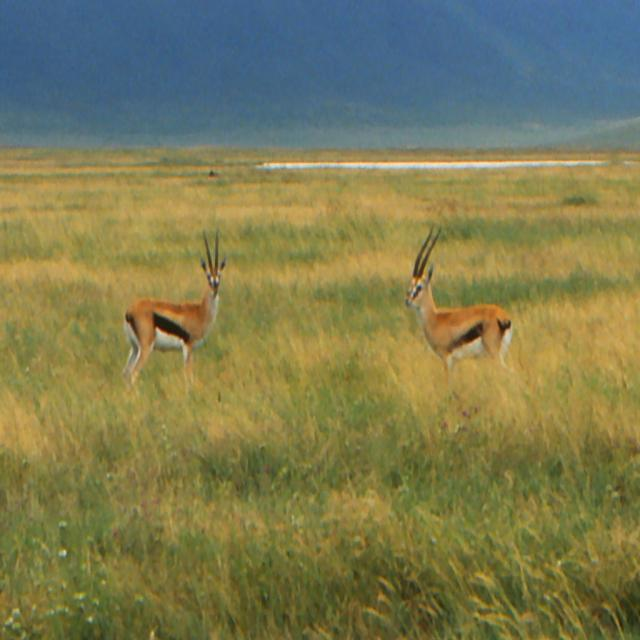Deer: (403, 222, 513, 382), (122, 226, 226, 394)
